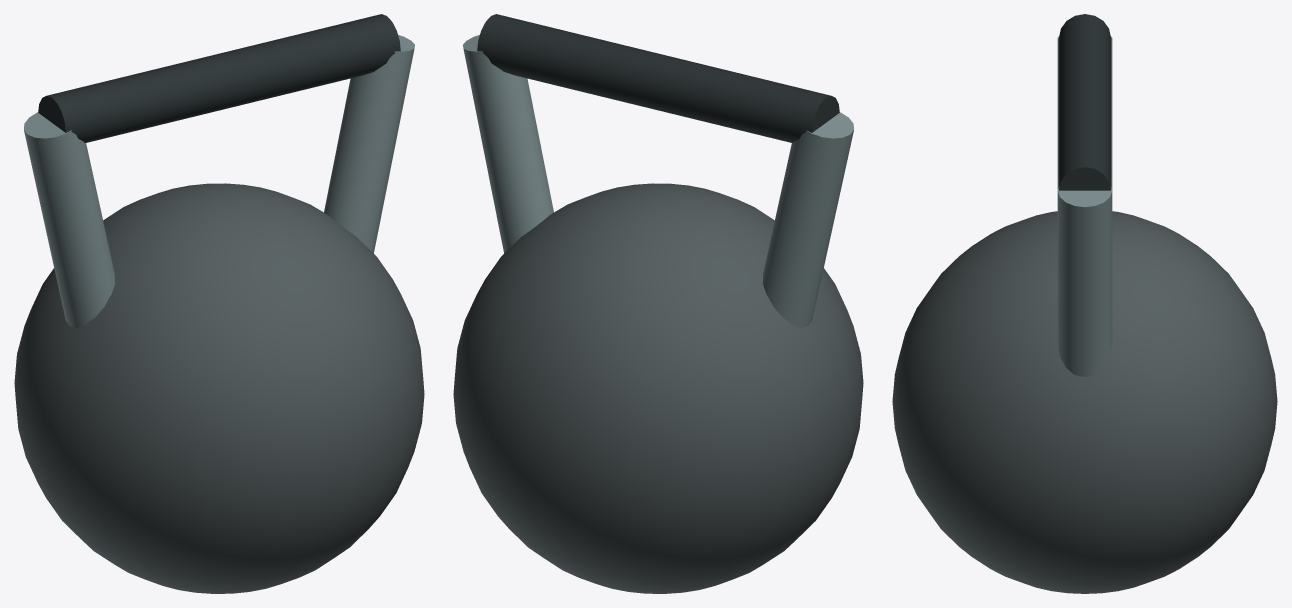
Rendered from kettlebell.v1.glb.
The picture shows the model from 3 angles, left to right: view 1: azimuth 30°, elevation 25°; view 2: azimuth 150°, elevation 25°; view 3: azimuth 270°, elevation 25°; orthographic projection. The views are drawn at different scales.
Parts seen in each view (by area): view 1: Cast iron bell, Handle stem, Top handle; view 2: Cast iron bell, Handle stem, Top handle; view 3: Cast iron bell, Handle stem, Top handle.
Part boxes in pixels (x1=…): Cast iron bell: x1=14, y1=183, x2=424, y2=593; Handle stem: x1=24, y1=35, x2=414, y2=328; Top handle: x1=38, y1=14, x2=400, y2=142; Cast iron bell: x1=453, y1=183, x2=863, y2=593; Handle stem: x1=463, y1=35, x2=853, y2=328; Top handle: x1=477, y1=14, x2=839, y2=142; Cast iron bell: x1=892, y1=211, x2=1277, y2=593; Handle stem: x1=1057, y1=36, x2=1112, y2=376; Top handle: x1=1059, y1=14, x2=1110, y2=190.
Bounding box in the file's own units: 0.3669 × 0.473 × 0.34.
